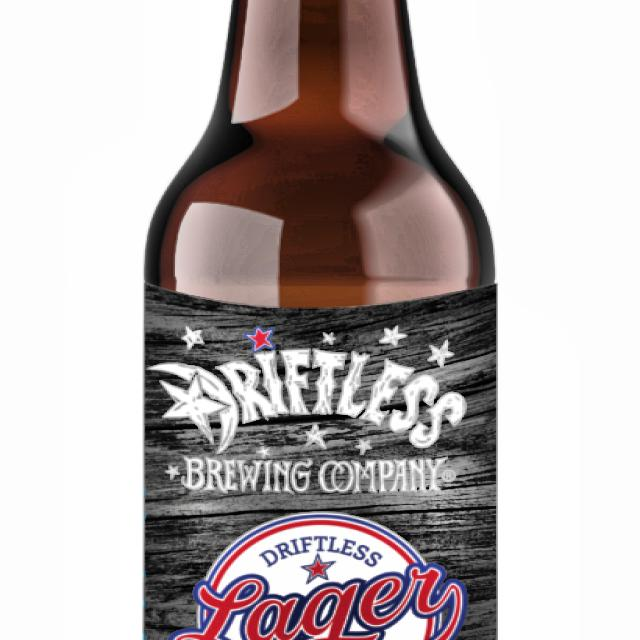glass: (137, 0, 496, 640)
